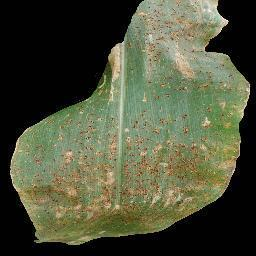Corn_Common_Rust: (133, 0, 251, 239), (9, 75, 133, 245), (100, 15, 134, 75)
